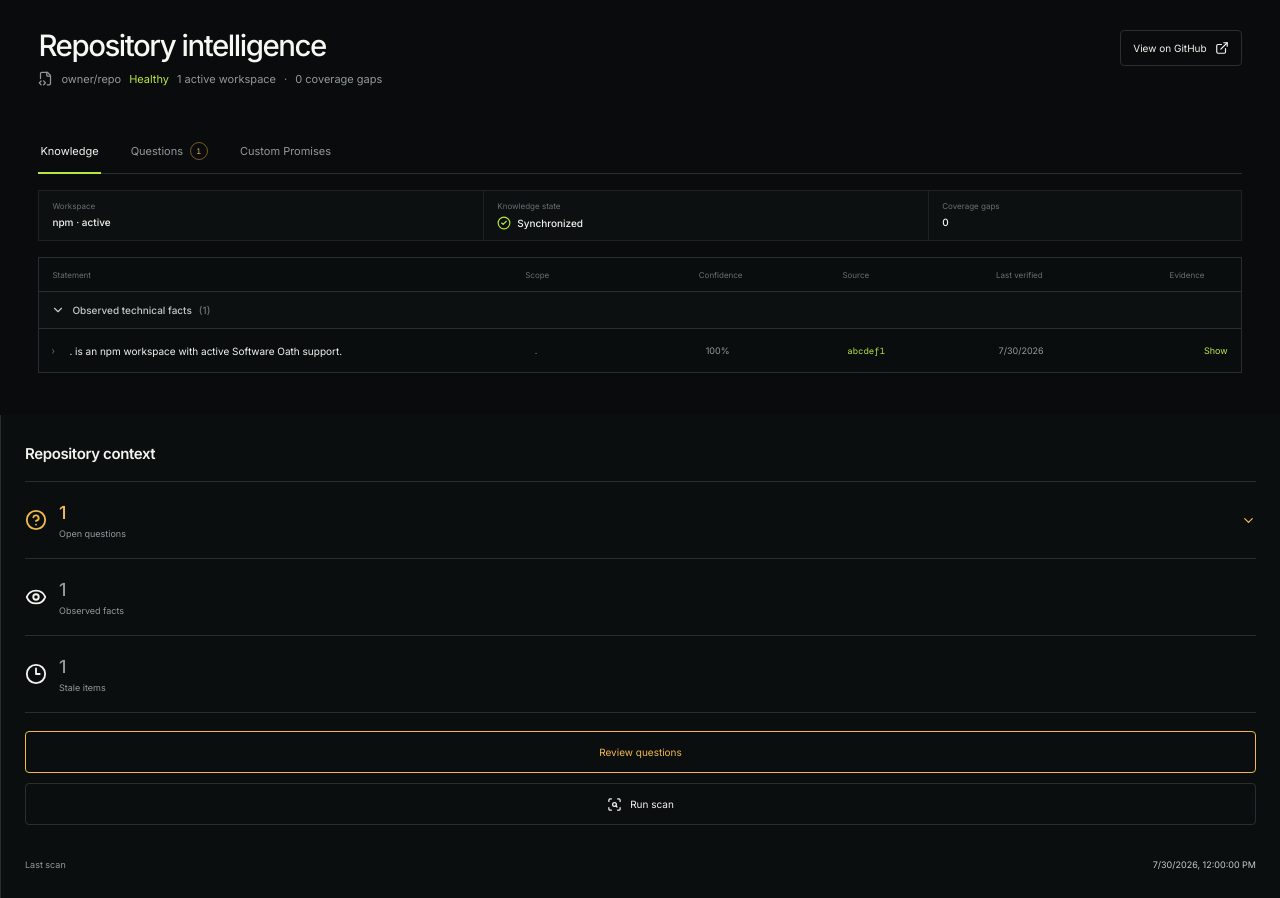
Test: repository intelligence workspace › renders custom promise authoring form and allows submitting custom promises
Click the tab "Custom Promises". click: (286, 151)
box: [238,128,333,173]
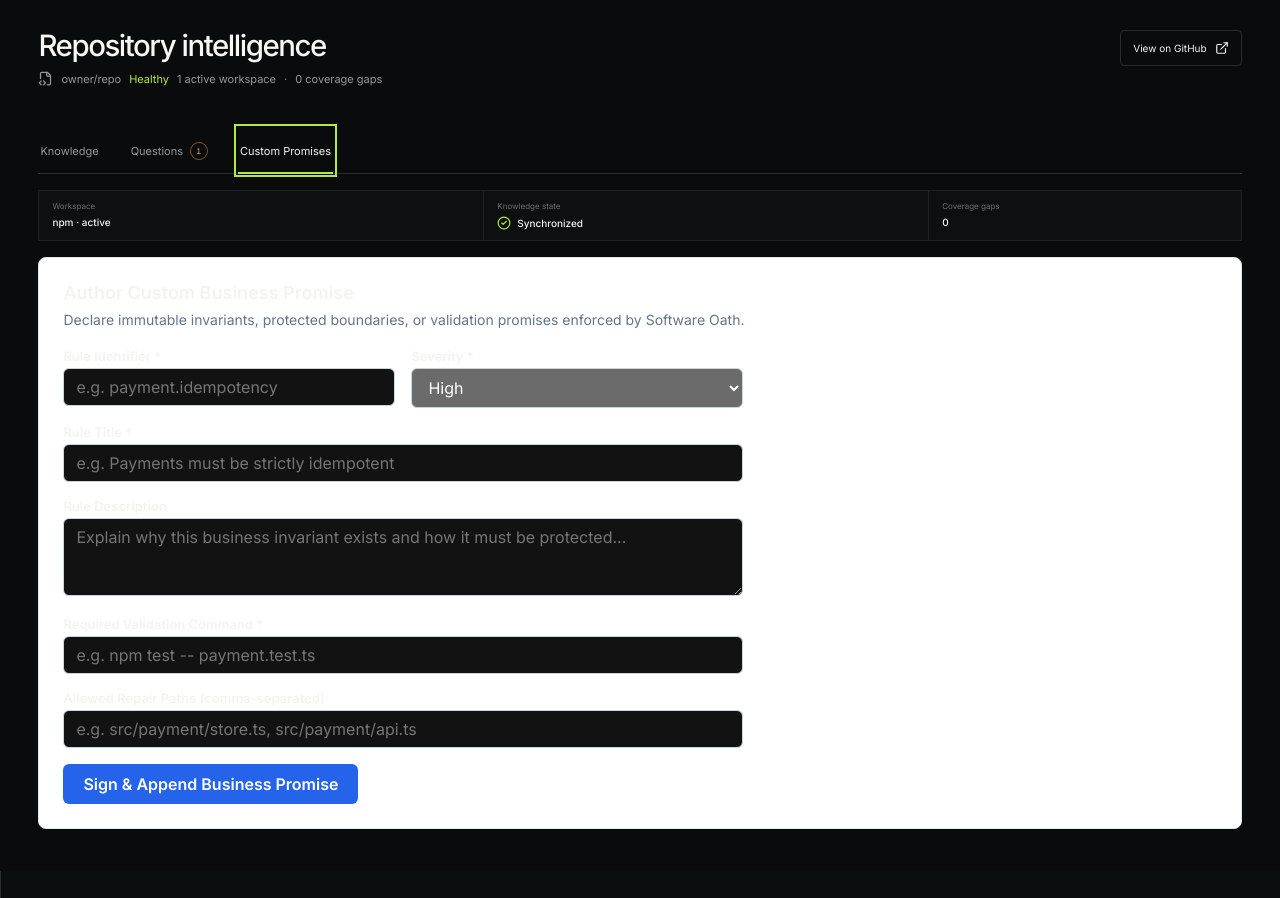
expect the field with placeholder "e.g. payment.idempotency" is shown: met, box [63,368,395,406]
expect the button "Sign & Append Business Promise" is shown: met, box [63,764,358,804]
